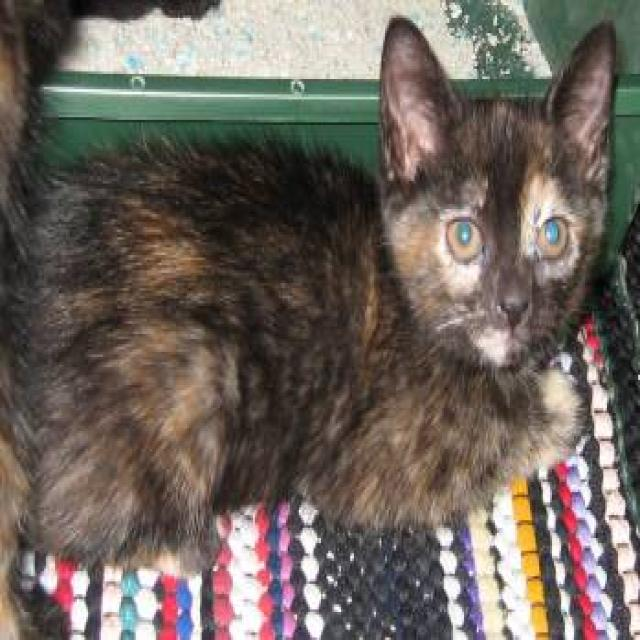cat: (0, 0, 627, 590)
